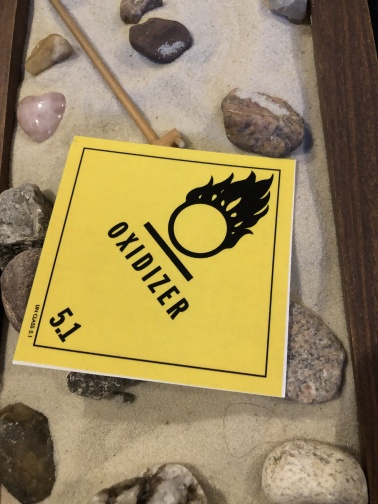Oxidizer: (13, 136, 296, 398)
